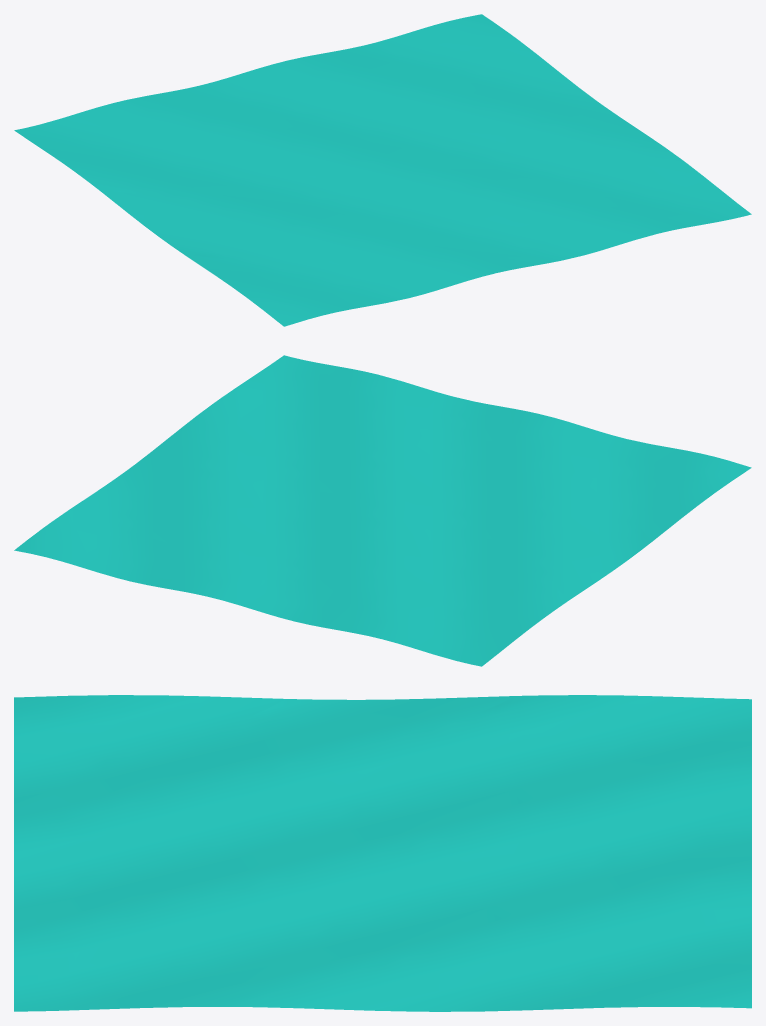
The model's file is Water_tile_16m_LOD1.glb.
The picture shows the model from 3 angles, top to bottom: view 1: azimuth 30°, elevation 25°; view 2: azimuth 150°, elevation 25°; view 3: azimuth 270°, elevation 25°; orthographic projection. The views are drawn at different scales.
Parts seen in each view (by area): view 1: Water surface; view 2: Water surface; view 3: Water surface.
Boxes of the visible parts, x1,y1,x2,y2 form: Water surface: [14, 14, 751, 326]; Water surface: [14, 355, 751, 666]; Water surface: [14, 695, 751, 1011].
Size of the model in its own units: 16 by 0.1219 by 16.
